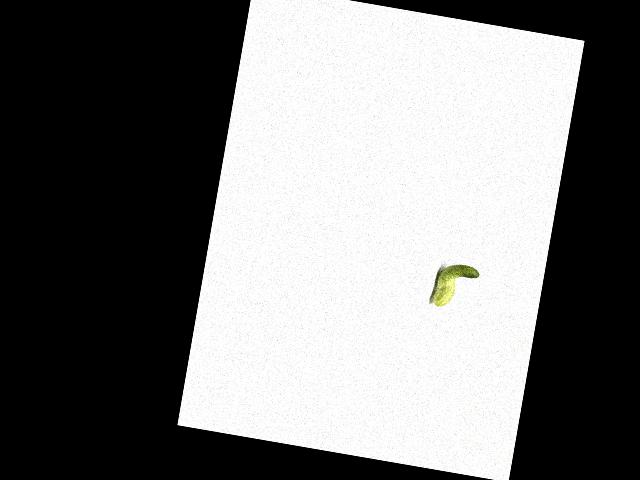cucumber: (431, 260, 480, 312)
